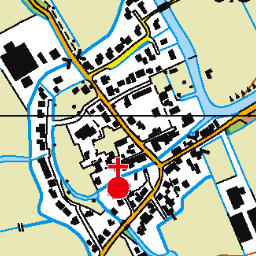church: (105, 156, 132, 204)
